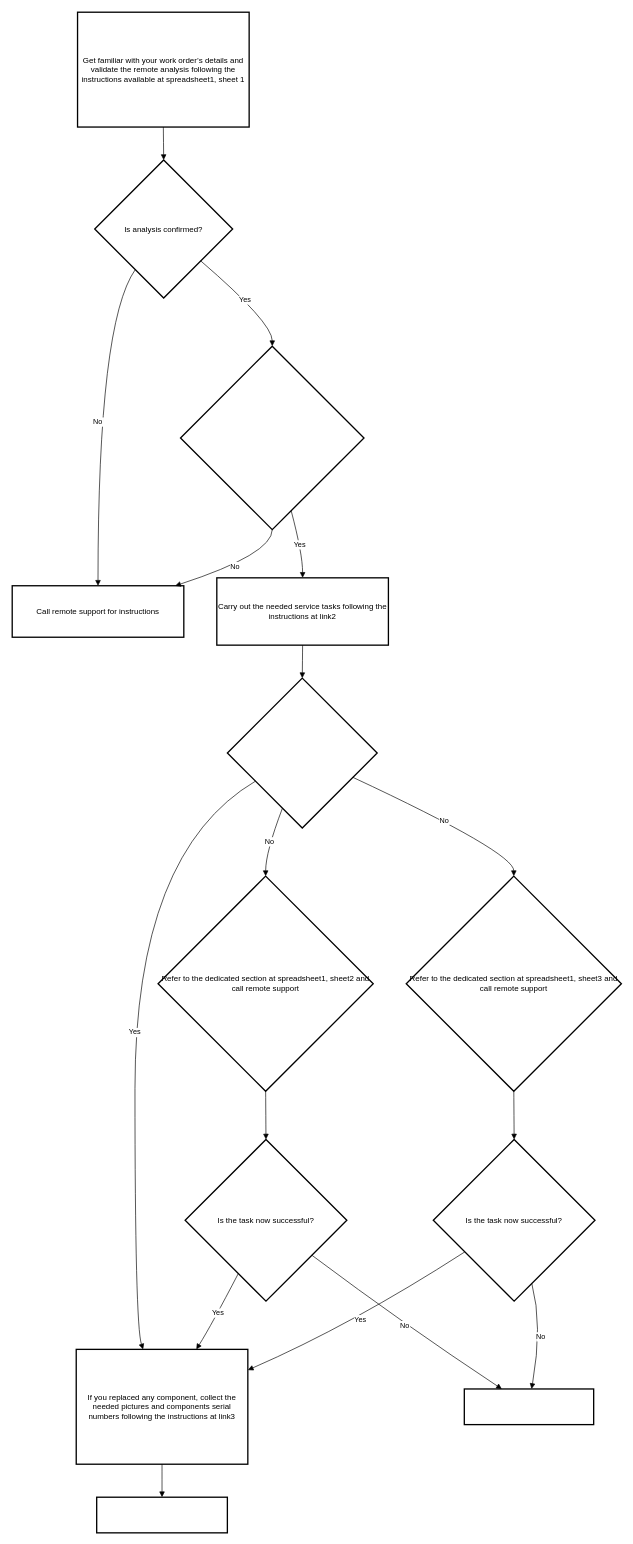
The diagram is 633 pixels wide and 1544 high, and some of its shapes have lost their labels. The shapes that lost their labels are listed below. From the top down, each one's centre as x and y in pixels, then its label:
At (x=272, y=437): "Do you have all the spare parts required for the job?".
At (x=302, y=752): "Was the task successful?".
At (x=528, y=1406): "The task ends here".
At (x=162, y=1514): "The task is finished".
